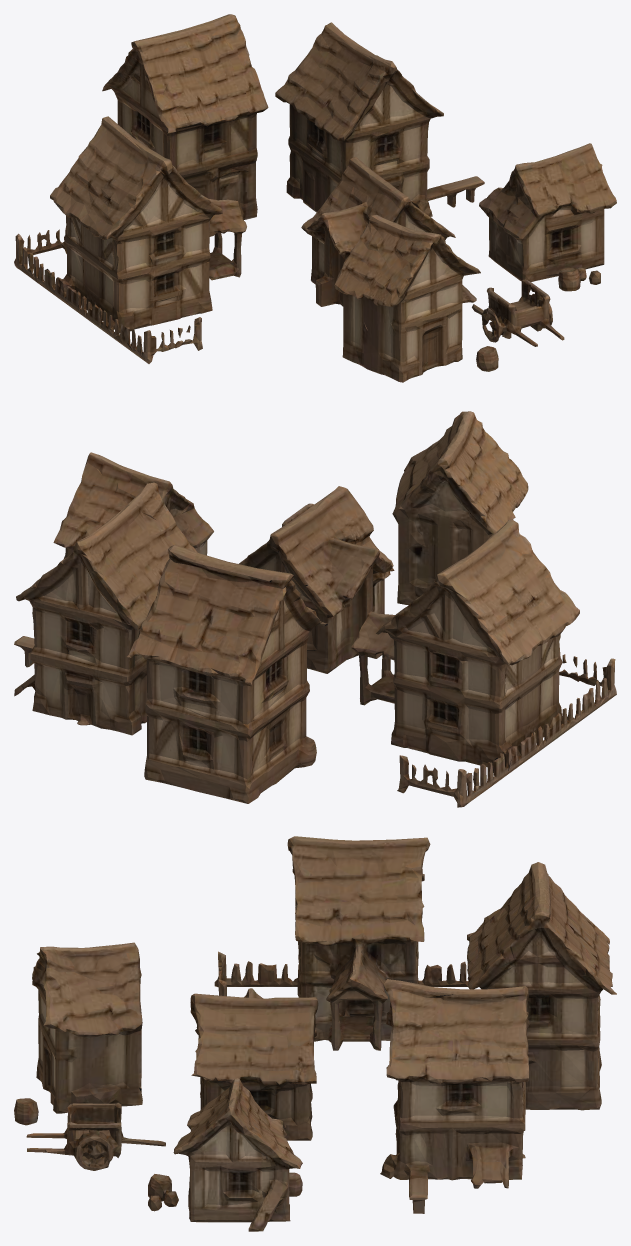
The model's file is village_scene_small_houses_lod0.glb.
The picture shows the model from 3 angles, top to bottom: view 1: azimuth 30°, elevation 25°; view 2: azimuth 150°, elevation 25°; view 3: azimuth 270°, elevation 25°; orthographic projection. The views are drawn at different scales.
Parts seen in each view (by area): view 1: village_scene_small_houses_lod0; view 2: village_scene_small_houses_lod0; view 3: village_scene_small_houses_lod0.
Part boxes in pixels (x1=…): village_scene_small_houses_lod0: x1=14, y1=14, x2=616, y2=382; village_scene_small_houses_lod0: x1=14, y1=411, x2=616, y2=807; village_scene_small_houses_lod0: x1=14, y1=836, x2=616, y2=1231.
Bounding box in the file's own units: 19.4 × 7.5 × 19.92.
1 material, 1 textured.
